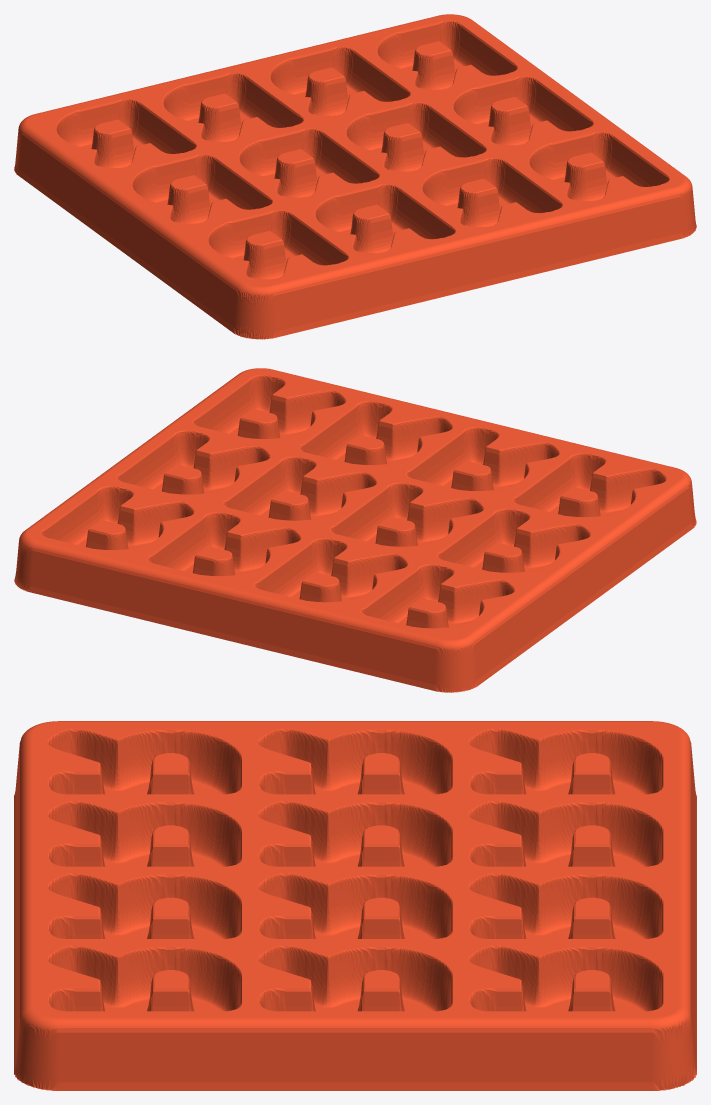
The model's file is mold.glb.
The picture shows the model from 3 angles, top to bottom: view 1: azimuth 30°, elevation 25°; view 2: azimuth 150°, elevation 25°; view 3: azimuth 270°, elevation 25°; orthographic projection. The views are drawn at different scales.
Parts seen in each view (by area): view 1: geometry_0; view 2: geometry_0; view 3: geometry_0.
Part boxes in pixels (box(x1,y1,x2,y2)): geometry_0: box(14, 14, 696, 339); geometry_0: box(14, 368, 696, 692); geometry_0: box(14, 721, 696, 1090).
Size of the model in its own units: 0.148 by 0.0145 by 0.1374.
